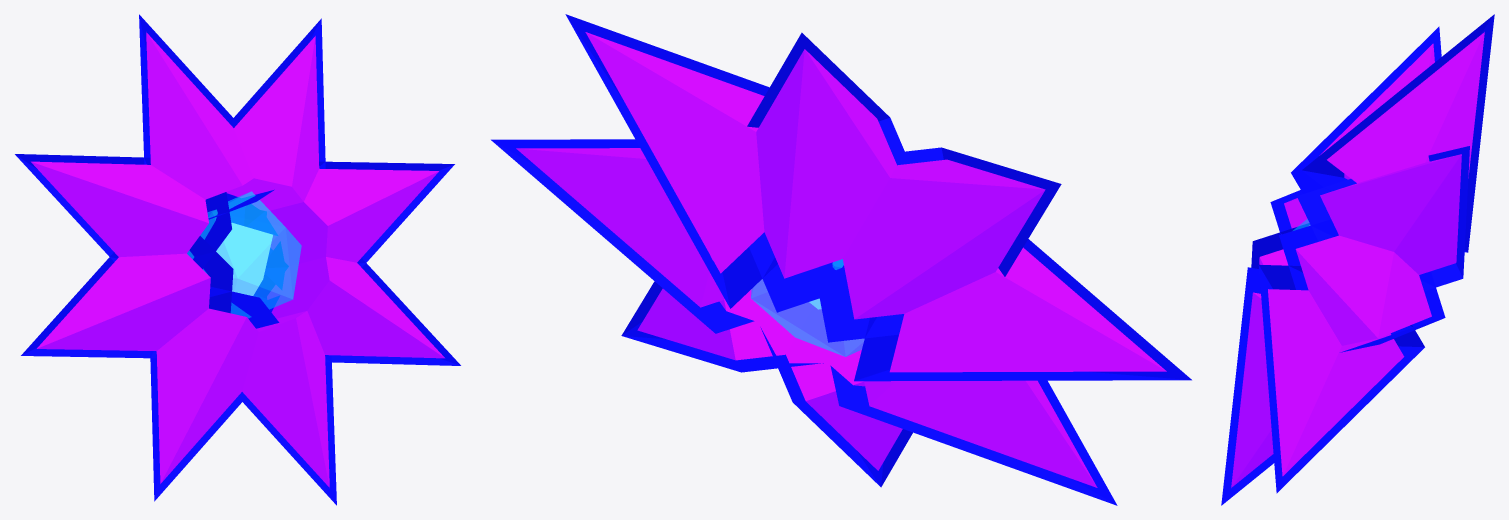
The model's file is fx_chainlightning.glb.
The picture shows the model from 3 angles, left to right: view 1: azimuth 30°, elevation 25°; view 2: azimuth 150°, elevation 25°; view 3: azimuth 270°, elevation 25°; orthographic projection. The views are drawn at different scales.
Parts seen in each view (by area): view 1: chainlightning_FX_ChainLightning_Node_Glow3, chainlightning_FX_ChainLightning_Node_Glow4, chainlightning_FX_ChainLightning_Node_Glow1, chainlightning_FX_ChainLightning_Node_Glow2; view 2: chainlightning_FX_ChainLightning_Node_Glow3, chainlightning_FX_ChainLightning_Node_Glow4, chainlightning_FX_ChainLightning_Node_Glow1; view 3: chainlightning_FX_ChainLightning_Node_Glow3, chainlightning_FX_ChainLightning_Node_Glow4.
Boxes of the visible parts, x1=… form: chainlightning_FX_ChainLightning_Node_Glow3: x1=31, y1=32, x2=444, y2=487; chainlightning_FX_ChainLightning_Node_Glow4: x1=15, y1=14, x2=460, y2=505; chainlightning_FX_ChainLightning_Node_Glow1: x1=187, y1=191, x2=301, y2=318; chainlightning_FX_ChainLightning_Node_Glow2: x1=216, y1=223, x2=272, y2=295; chainlightning_FX_ChainLightning_Node_Glow3: x1=516, y1=32, x2=1166, y2=487; chainlightning_FX_ChainLightning_Node_Glow4: x1=491, y1=14, x2=1191, y2=505; chainlightning_FX_ChainLightning_Node_Glow1: x1=751, y1=259, x2=864, y2=356; chainlightning_FX_ChainLightning_Node_Glow3: x1=1231, y1=32, x2=1484, y2=487; chainlightning_FX_ChainLightning_Node_Glow4: x1=1221, y1=14, x2=1494, y2=505.
Size of the model in its own units: 3.3 by 2.9 by 1.58.
